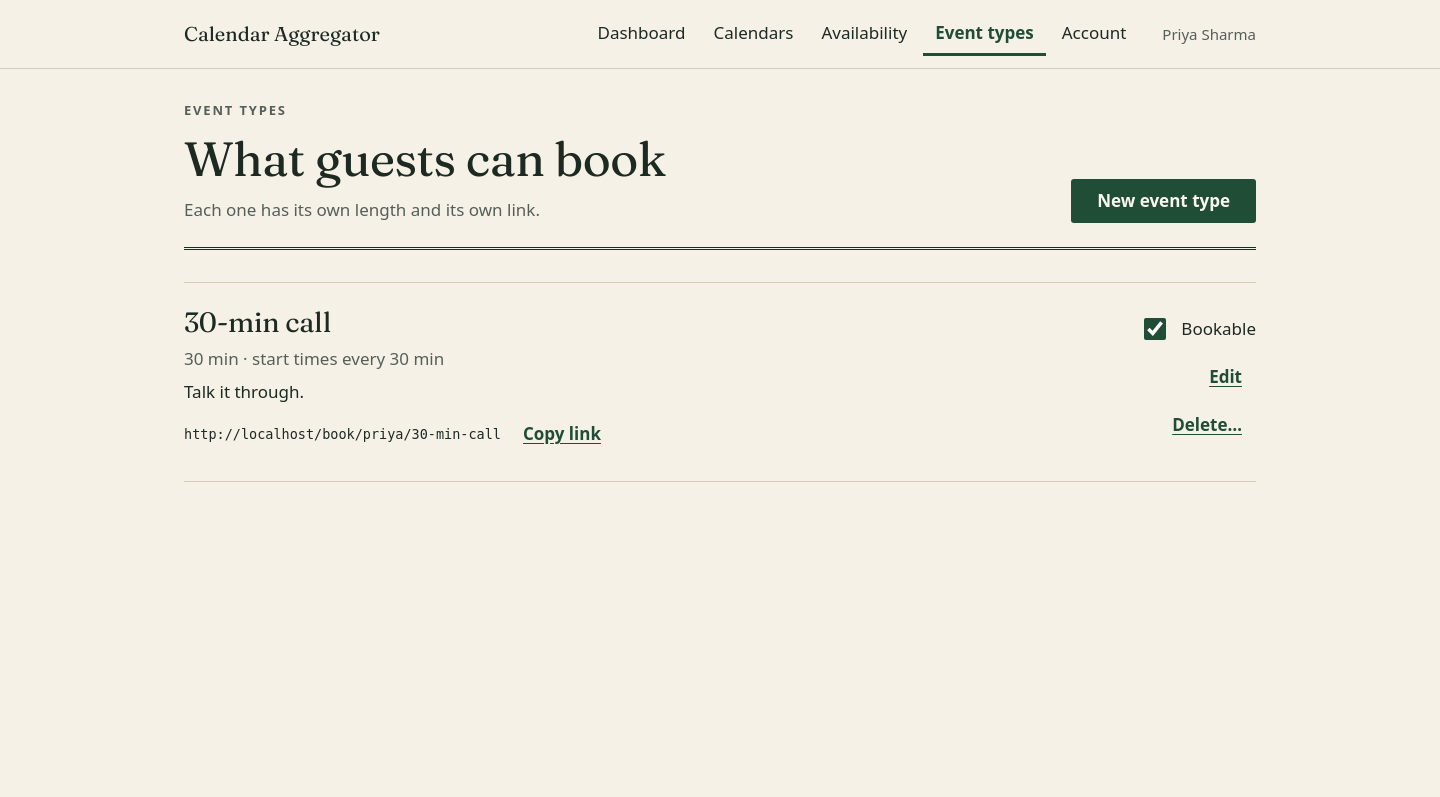
Test: the event types page › shows the server's reason when a link is taken
The width and height of the screenshot is (1440, 797).
Click the button "New event type" at (1164, 201), box x1=1071 y1=179 x2=1256 y2=223
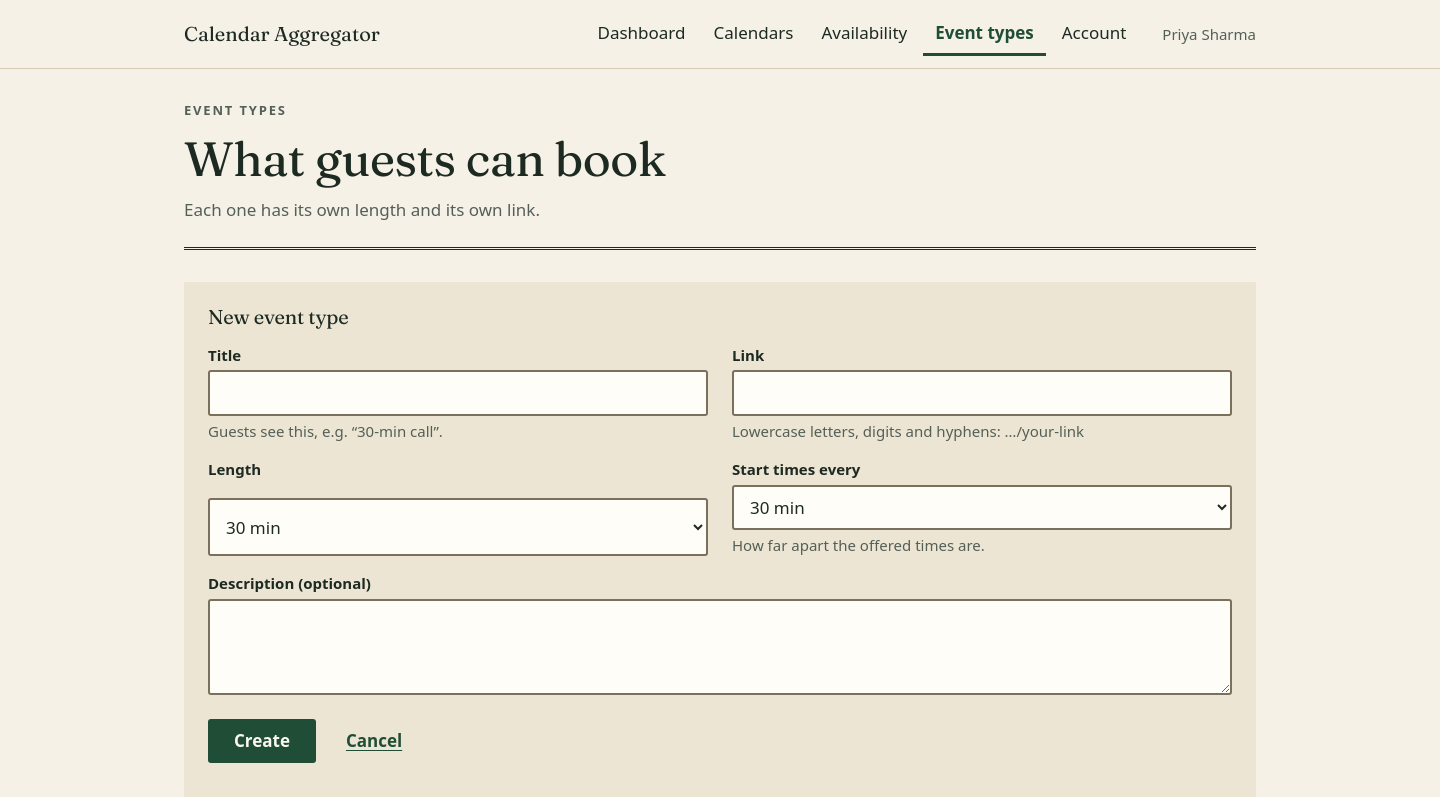
Type "30-min call" into the field labelled "Title" at (458, 393), box x1=208 y1=370 x2=708 y2=416
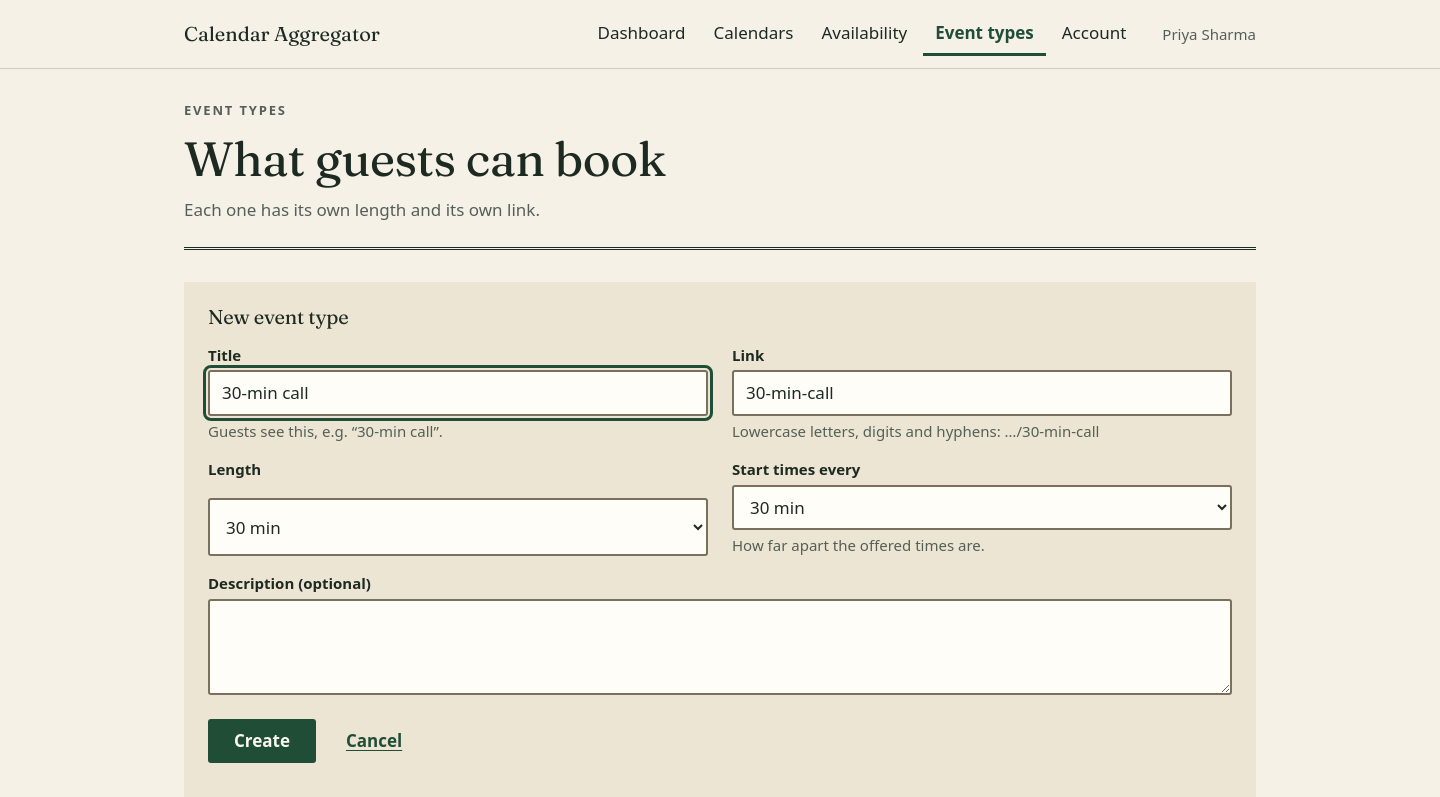
Click the button "Create" at (262, 741), box x1=208 y1=719 x2=316 y2=763
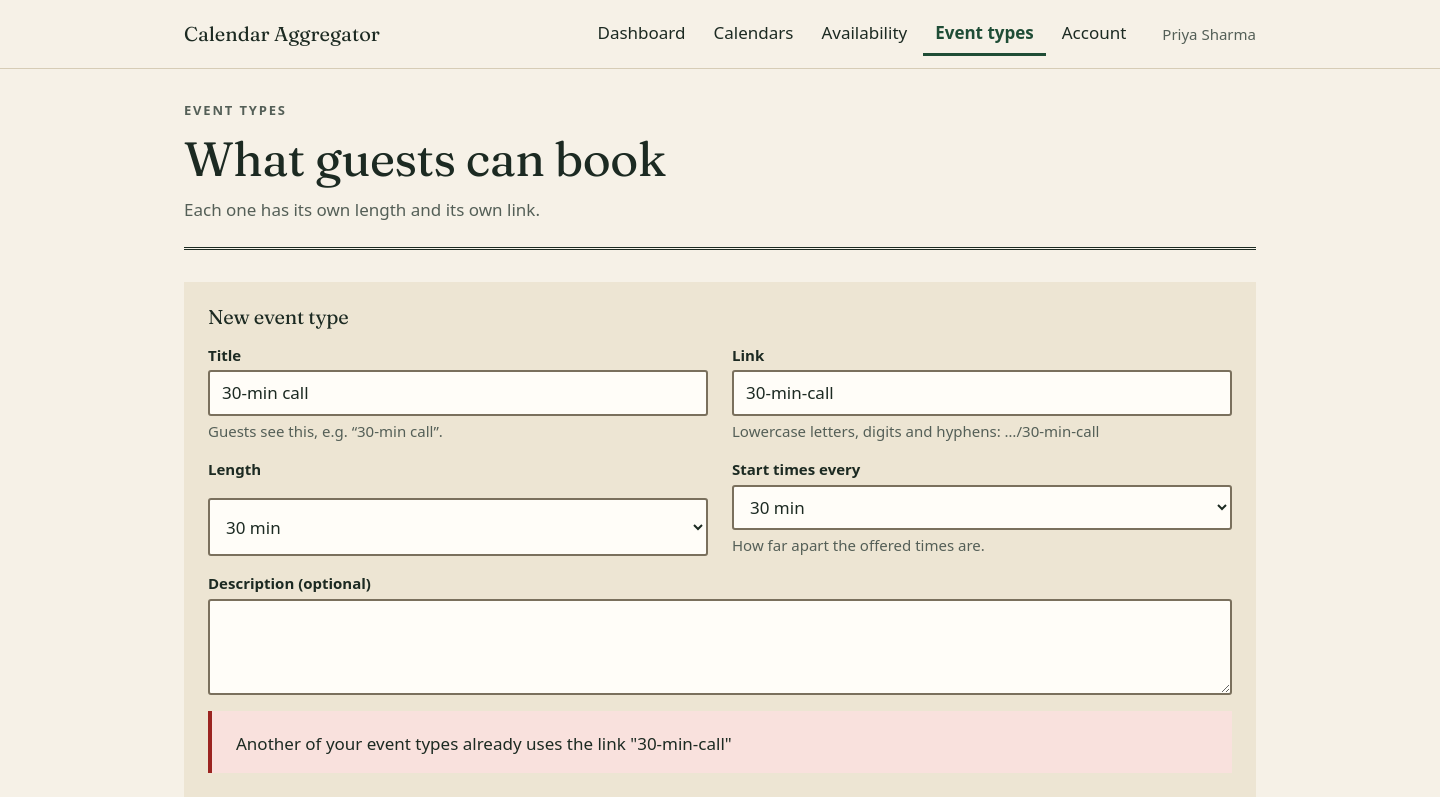
Now the text "Another of your event types already uses the link \"30-min-call\"" is shown, box x1=236 y1=732 x2=732 y2=755
